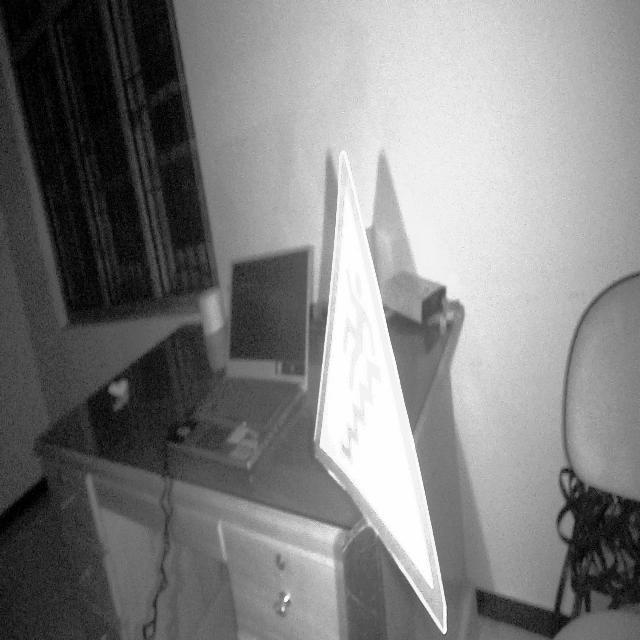Sign: (312, 149, 448, 637)
